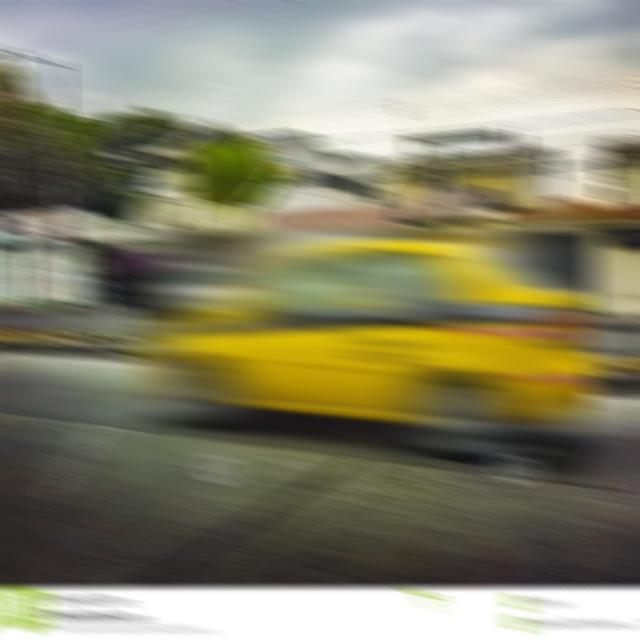Taxi: (131, 225, 594, 457)
